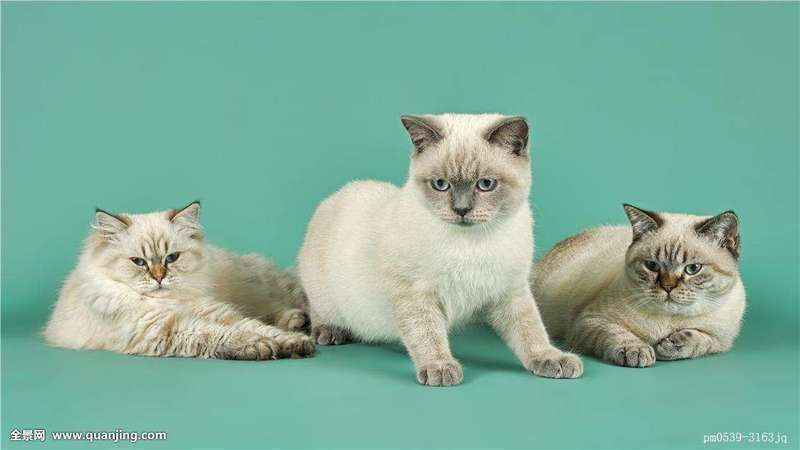cat: (378, 100, 538, 249), (606, 197, 747, 326), (82, 199, 234, 301)
